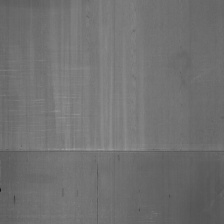welding_line: (0, 142, 224, 158)
